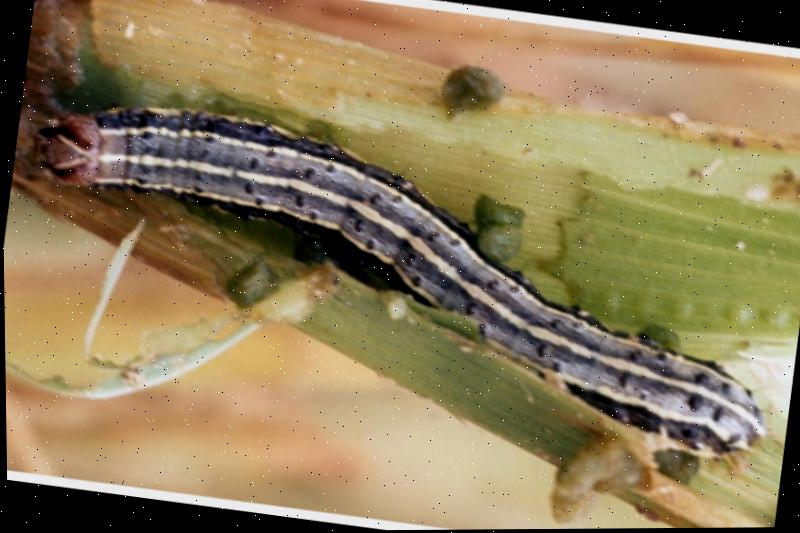fall-armyworm: (36, 104, 766, 460)
